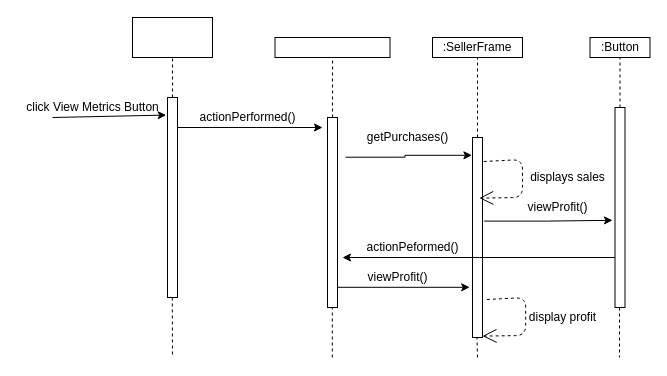
The diagram is 667 pixels wide and 376 high, and some of its shapes have lost their labels. Here are the shapes that lost their labels. From the top down, the centre of each, then its label:
At pixel 172 37: ":Button in SellerFrame".
At pixel 332 47: ":ButtonListener".
